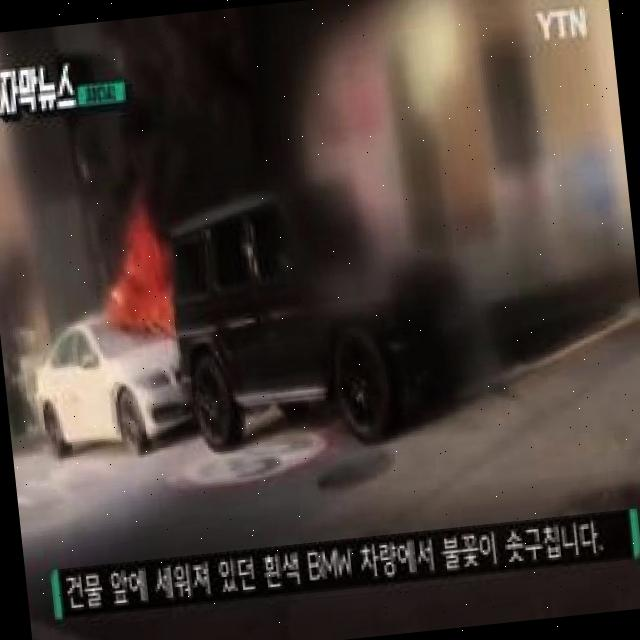fire: (108, 246, 173, 326)
